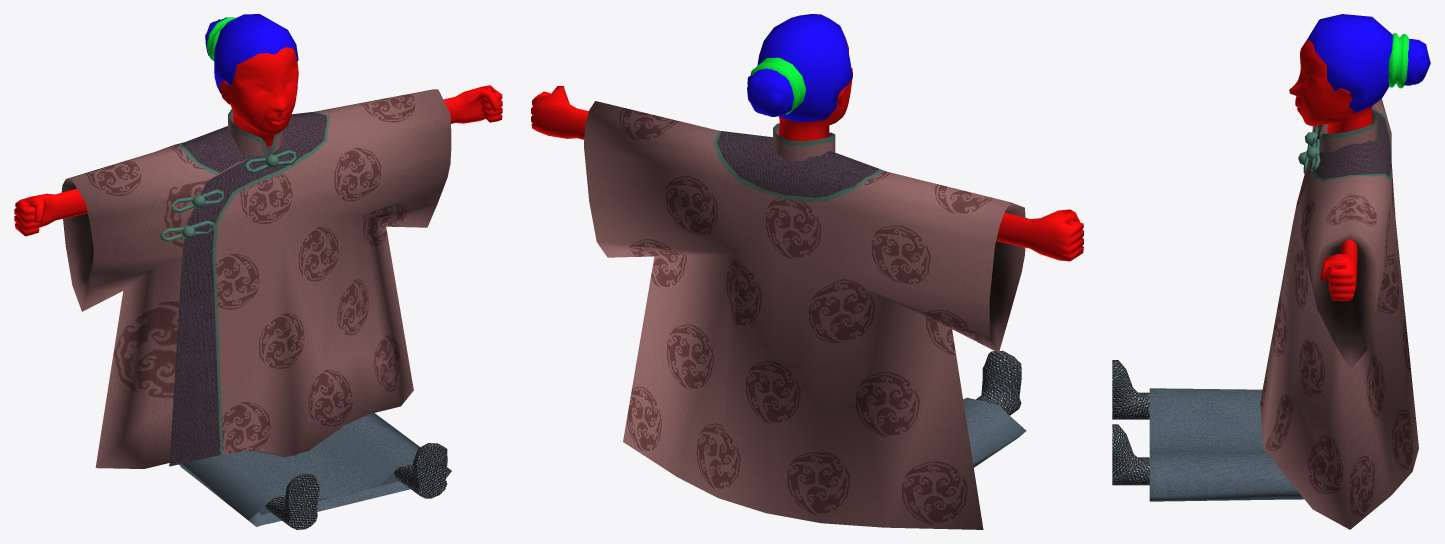
File: glove_puppet05.FBX
The picture shows the model from 3 angles, left to right: view 1: azimuth 30°, elevation 25°; view 2: azimuth 150°, elevation 25°; view 3: azimuth 270°, elevation 25°; orthographic projection. The views are drawn at different scales.
Parts seen in each view (by area): view 1: puppet_cloth, Head; view 2: puppet_cloth, Head; view 3: puppet_cloth, Head.
Boxes of the visible parts, left/top/right/bottom form: puppet_cloth: left=61, top=89, right=451, bottom=529; Head: left=14, top=14, right=502, bottom=236; puppet_cloth: left=584, top=101, right=1026, bottom=529; Head: left=531, top=14, right=1083, bottom=261; puppet_cloth: left=1112, top=98, right=1418, bottom=529; Head: left=1289, top=14, right=1430, bottom=300.
Size of the model in its own units: 2.41 by 1.33 by 2.
Materials: 2 (1 with a texture image).
